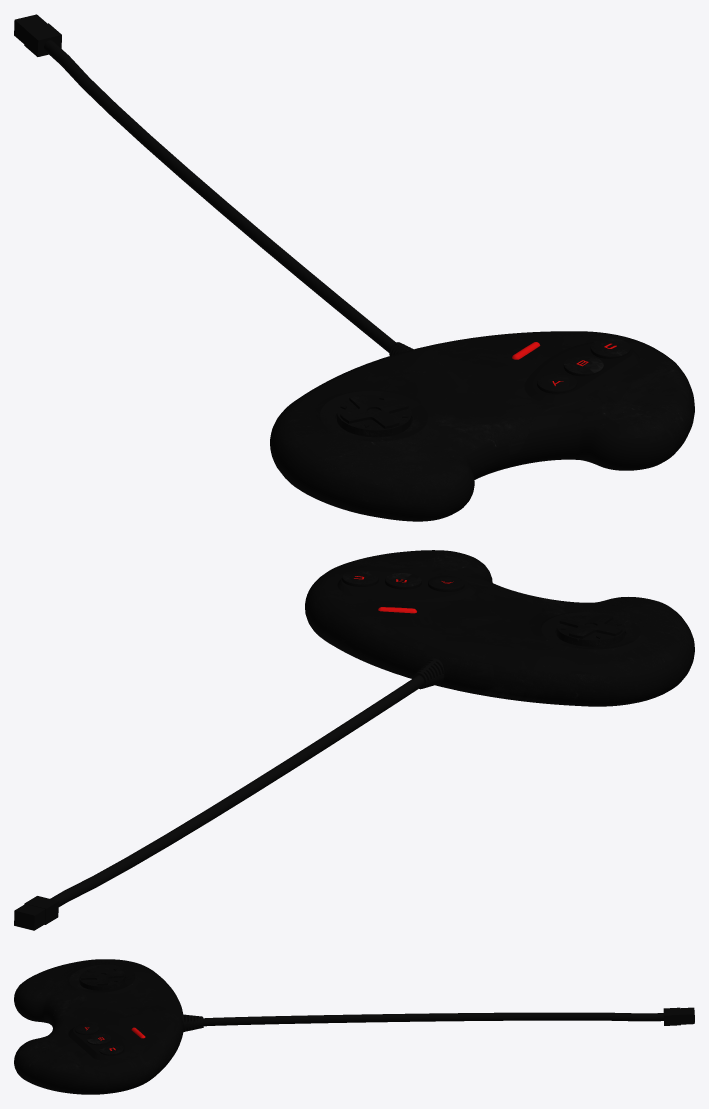
File: controller.fbx
3 views of the same model, one above another, from view 1: azimuth 30°, elevation 25°; view 2: azimuth 150°, elevation 25°; view 3: azimuth 270°, elevation 25° (orthographic). The views are drawn at different scales.
Parts seen in each view (by area): view 1: controller; view 2: controller; view 3: controller.
Part boxes in pixels (x1,y1,x2,y2): controller: [14, 14, 694, 521]; controller: [14, 550, 694, 930]; controller: [14, 959, 694, 1094].
Size of the model in its own units: 165 by 28.26 by 406.
Materials: 3 (1 with a texture image).
